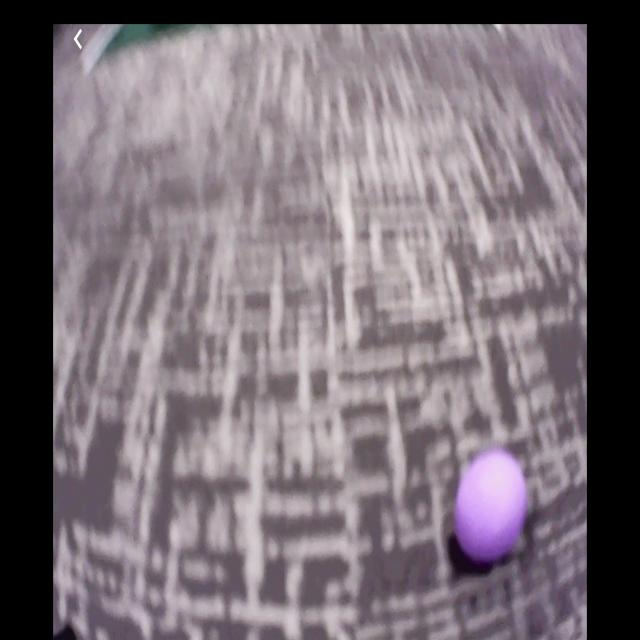ball: (454, 450, 527, 556)
